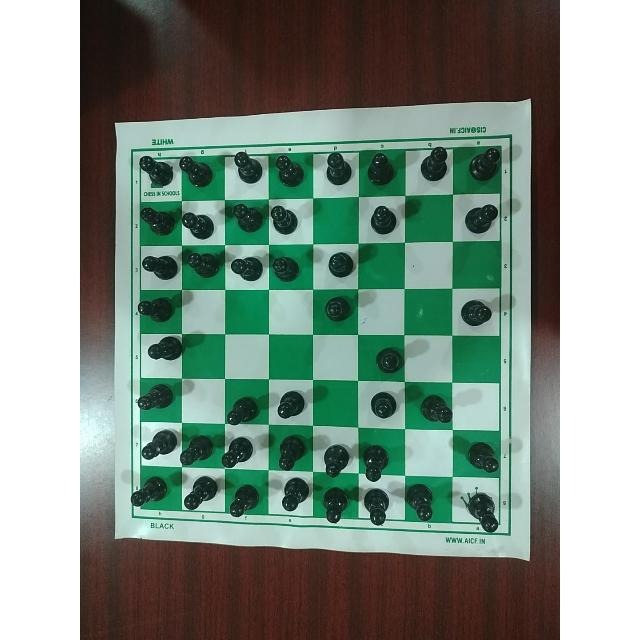black-pawn: (404, 483, 444, 525), (135, 154, 176, 192), (416, 388, 455, 427), (134, 292, 178, 326), (177, 154, 216, 192), (135, 154, 175, 191), (463, 492, 503, 529), (222, 388, 259, 428), (276, 428, 310, 471), (465, 145, 503, 183), (364, 150, 400, 190), (460, 201, 500, 237), (138, 202, 178, 238), (226, 480, 261, 521), (360, 486, 394, 528), (181, 473, 218, 511), (138, 428, 178, 463), (128, 474, 169, 508), (465, 442, 503, 478), (274, 475, 310, 513), (417, 145, 452, 184), (179, 153, 215, 189), (219, 432, 256, 467), (140, 250, 180, 282), (136, 381, 176, 413), (365, 199, 401, 234), (181, 206, 217, 241), (321, 437, 350, 479), (323, 150, 355, 188), (229, 202, 264, 236), (273, 153, 306, 189), (274, 384, 306, 421), (146, 333, 184, 364), (363, 439, 391, 481), (321, 486, 350, 526), (179, 432, 213, 466), (461, 297, 495, 330), (366, 388, 399, 422), (271, 253, 306, 285), (228, 253, 263, 284), (233, 149, 263, 185), (269, 202, 301, 234), (323, 295, 355, 327), (185, 251, 221, 279), (324, 251, 357, 279), (374, 344, 403, 375)
